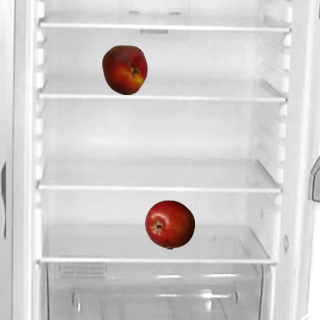Apple Braeburn: (144, 199, 194, 249)
Nectarine Flat: (99, 44, 149, 94)
